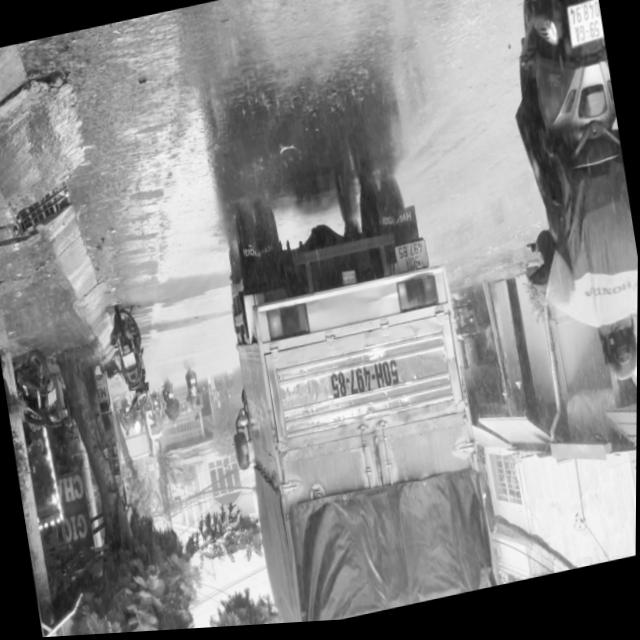helmet: (598, 322, 638, 393)
licenseplate: (478, 0, 640, 413)
nohelmet: (566, 6, 604, 53)
